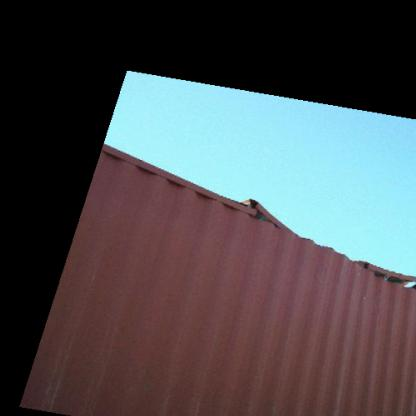Damage: (342, 240, 416, 309), (239, 190, 309, 245)
